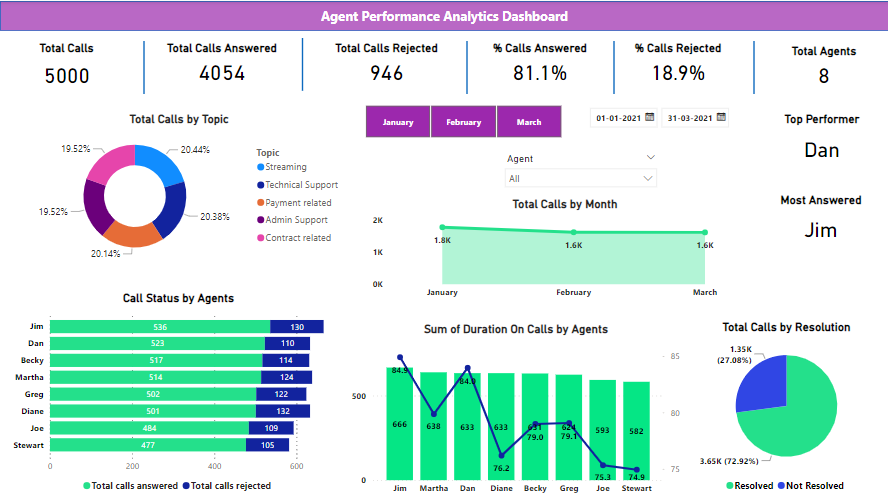

Layout of this report page (visuals, bound fields, positions):
{"tool":"powerbi","page":{"name":"Final Dashboard","canvas":[1280,720],"ordinal":0},"visuals":[{"type":"card","title":"Total Calls","fields":{"Values":["Transformed Data.Total Calls"]},"box":[14.4,57.6,162.7,76.3],"z":0},{"type":"card","title":"Total Agents","fields":{"Values":["Count(Transformed Data.Agent)"]},"box":[1118.9,61.9,135.4,69.1],"z":1000},{"type":"shape","box":[195.8,57.6,23,76.3],"z":2000},{"type":"shape","box":[429.1,53.3,13,76.3],"z":3000},{"type":"shape","box":[662.4,57.6,20.2,76.3],"z":4000},{"type":"card","title":"Total Calls Answered","fields":{"Values":["Transformed Data.Total calls answered"]},"box":[229,57.6,181.4,69.1],"z":5000},{"type":"card","title":"Total Calls Rejected","fields":{"Values":["Transformed Data.Total calls rejected"]},"box":[462.2,57.6,188.6,69.1],"z":6000},{"type":"card","title":"% Calls Answered","fields":{"Values":["Transformed Data.% calls answered"]},"box":[694.1,57.6,167,69.1],"z":7000},{"type":"card","title":"% Calls Rejected","fields":{"Values":["Transformed Data.% calls rejected"]},"box":[894.2,57.6,164.2,69.1],"z":8000},{"type":"shape","box":[874.1,57.6,20.2,76.3],"z":9000},{"type":"pieChart","fields":{"Category":["Transformed Data.Resolution"],"Y":["Transformed Data.Total Calls"]},"box":[985,459.4,295.2,257.8],"z":10000},{"type":"barChart","title":"Call Status by Agents","fields":{"Category":["Transformed Data.Agent"],"Y":["Transformed Data.Total calls answered","Transformed Data.Total calls rejected"]},"box":[13,417.6,488.2,299.5],"z":11000},{"type":"areaChart","fields":{"Category":["Transformed Data.Date.Variation.Date Hierarchy.Month","Transformed Data.Date.Variation.Date Hierarchy.Day"],"Y":["Transformed Data.Total Calls"]},"box":[531.4,282.2,564.5,155.5],"z":12000},{"type":"card","title":"Most Answered","fields":{"Values":["Min(Transformed Data.Agent)"]},"box":[1110.2,276.5,144,83.5],"z":13000},{"type":"card","title":"Top Performer","fields":{"Values":["Min(Transformed Data.Agent)"]},"box":[1113.1,159.8,141.1,86.4],"z":14000},{"type":"shape","box":[1075.7,57.6,20.2,76.3],"z":15000},{"type":"donutChart","fields":{"Category":["Transformed Data.Topic"],"Y":["Transformed Data.Total Calls"]},"box":[14.4,159.8,486.7,223.2],"z":16000},{"type":"lineStackedColumnComboChart","title":"Sum of Duration On Calls by Agents","fields":{"Category":["Transformed Data.Agent"],"Y2":["Sum(Transformed Data.Duration On Calls)"],"Y":["Transformed Data.Total Calls"]},"box":[501.1,462.2,483.8,257.8],"z":17000},{"type":"slicer","fields":{"Values":["Transformed Data.Date.Variation.Date Hierarchy.Month"]},"box":[501.1,144,331.2,59],"z":18000},{"type":"slicer","fields":{"Values":["Transformed Data.Date"]},"box":[836.6,144,221.8,59],"z":19000},{"type":"shape","box":[0,0,1280.2,43.2],"z":20000},{"type":"slicer","fields":{"Values":["Transformed Data.Agent"]},"box":[717.1,213.1,239,63.4],"z":21000}]}

Visuals, with their boxes in screenshot pixels (x1, y1, x2, y2), scaled from the page's 1280x720 canvas onto the 888x497 screenshot:
"Total Calls" card: {"left": 10, "top": 40, "right": 123, "bottom": 92}
"Total Agents" card: {"left": 776, "top": 43, "right": 870, "bottom": 90}
shape: {"left": 136, "top": 40, "right": 152, "bottom": 92}
shape: {"left": 298, "top": 37, "right": 307, "bottom": 89}
shape: {"left": 460, "top": 40, "right": 474, "bottom": 92}
"Total Calls Answered" card: {"left": 159, "top": 40, "right": 285, "bottom": 87}
"Total Calls Rejected" card: {"left": 321, "top": 40, "right": 451, "bottom": 87}
"% Calls Answered" card: {"left": 482, "top": 40, "right": 597, "bottom": 87}
"% Calls Rejected" card: {"left": 620, "top": 40, "right": 734, "bottom": 87}
shape: {"left": 606, "top": 40, "right": 620, "bottom": 92}
pieChart - Transformed Data.Resolution x Transformed Data.Total Calls: {"left": 683, "top": 317, "right": 887, "bottom": 495}
"Call Status by Agents" barChart: {"left": 9, "top": 288, "right": 348, "bottom": 495}
areaChart - Transformed Data.Date.Variation.Date Hierarchy.Month x Transformed Data.Date.Variation.Date Hierarchy.Day: {"left": 369, "top": 195, "right": 760, "bottom": 302}
"Most Answered" card: {"left": 770, "top": 191, "right": 870, "bottom": 248}
"Top Performer" card: {"left": 772, "top": 110, "right": 870, "bottom": 170}
shape: {"left": 746, "top": 40, "right": 760, "bottom": 92}
donutChart - Transformed Data.Topic x Transformed Data.Total Calls: {"left": 10, "top": 110, "right": 348, "bottom": 264}
"Sum of Duration On Calls by Agents" lineStackedColumnComboChart: {"left": 348, "top": 319, "right": 683, "bottom": 496}
slicer - Transformed Data.Date.Variation.Date Hierarchy.Month: {"left": 348, "top": 99, "right": 577, "bottom": 140}
slicer - Transformed Data.Date: {"left": 580, "top": 99, "right": 734, "bottom": 140}
shape: {"left": 0, "top": 0, "right": 887, "bottom": 30}
slicer - Transformed Data.Agent: {"left": 497, "top": 147, "right": 663, "bottom": 191}
